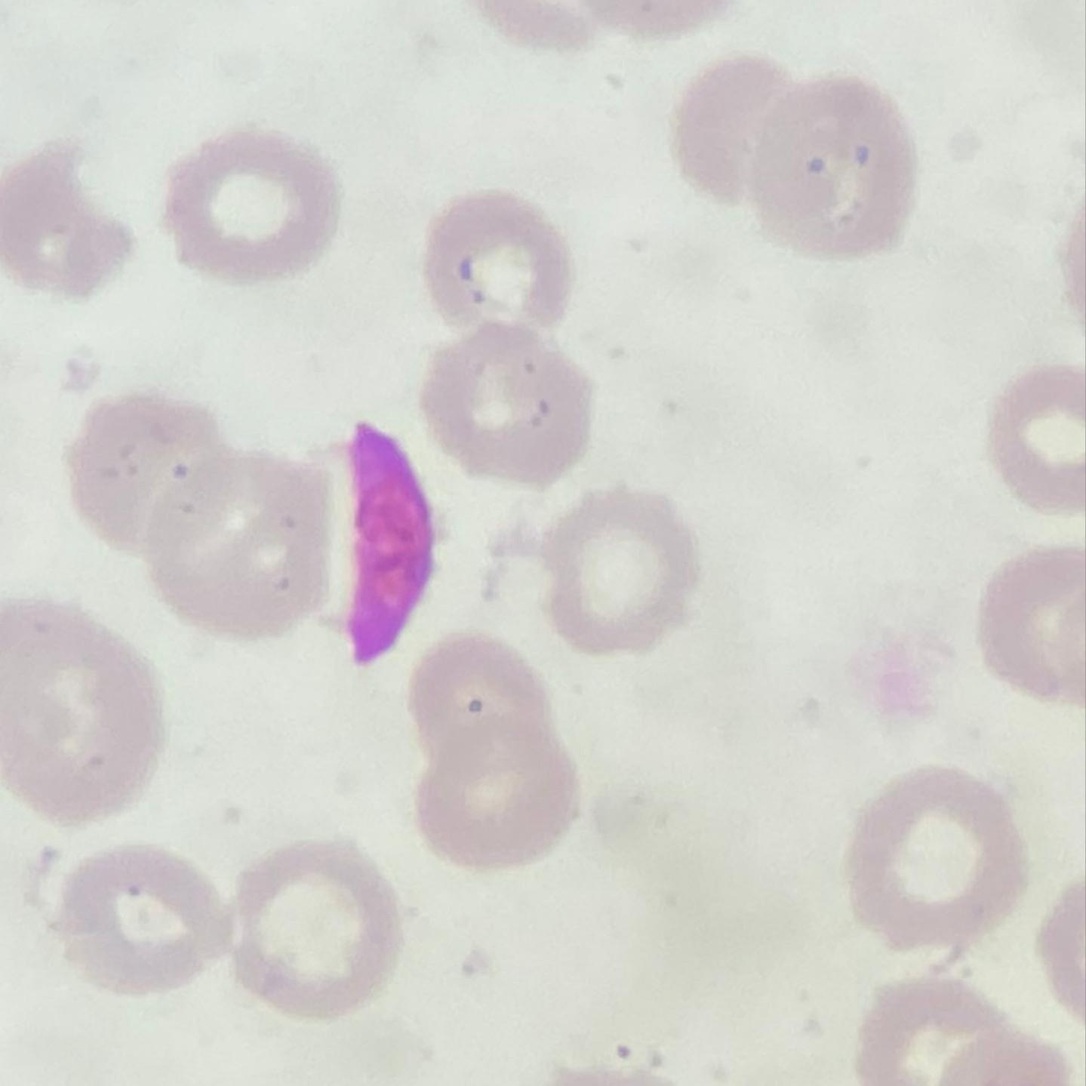Infected: (328, 421, 431, 667)
Uninfected: (0, 606, 167, 819), (157, 448, 333, 644), (843, 770, 1026, 949), (223, 838, 404, 1011), (747, 72, 917, 250), (162, 129, 346, 288), (64, 391, 232, 560), (419, 321, 589, 475), (62, 846, 238, 993), (540, 489, 700, 649), (411, 721, 582, 866), (421, 191, 576, 342), (409, 632, 553, 771), (674, 51, 801, 207), (974, 542, 1086, 697), (855, 974, 1009, 1086), (985, 365, 1086, 522)
